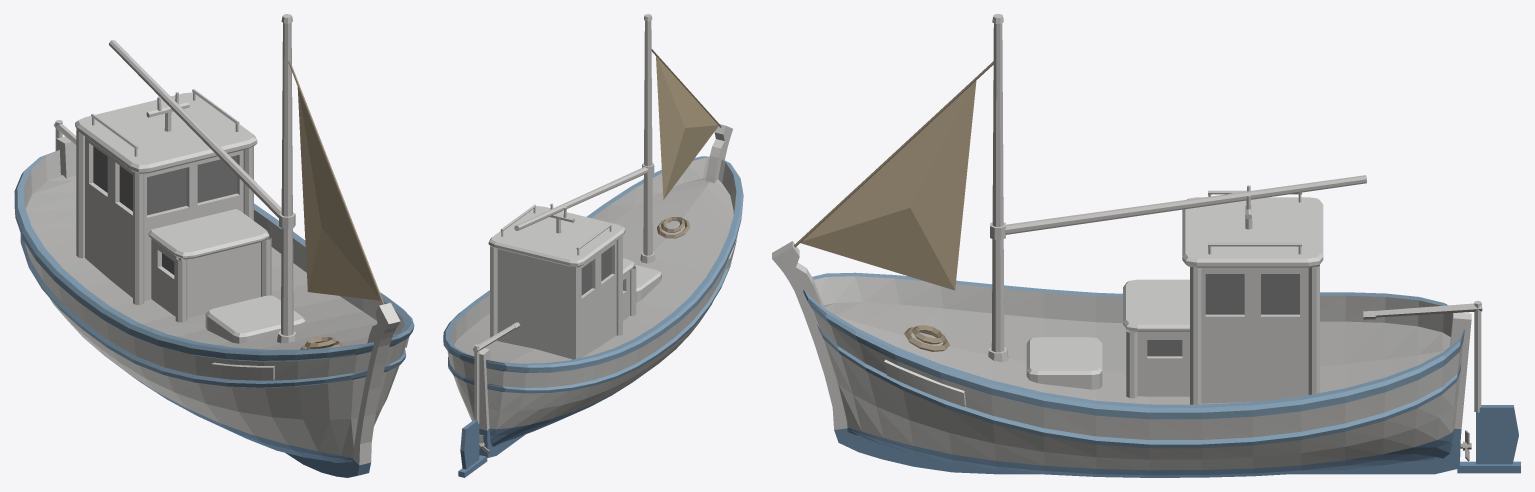
The model's file is boat.glb.
3 renders of one model, left to right at view 1: azimuth 30°, elevation 25°; view 2: azimuth 150°, elevation 25°; view 3: azimuth 270°, elevation 25°, orthographic. The views are drawn at different scales.
Visible parts, largest first — view 1: boat; view 2: boat; view 3: boat.
Part boxes in pixels (bbox=[...]): boat: bbox=[14, 14, 414, 477]; boat: bbox=[443, 14, 743, 477]; boat: bbox=[772, 14, 1520, 477].
Bounding box in the file's own units: 2.69 × 4.91 × 7.32.
